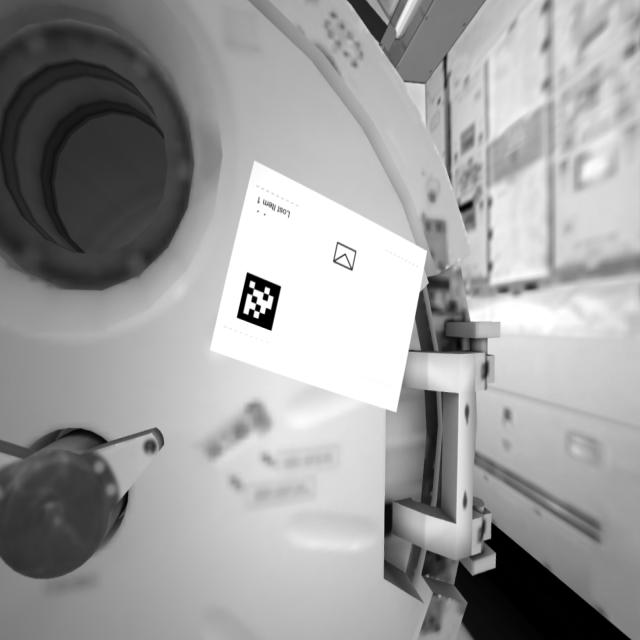letter: (327, 235, 363, 281)
